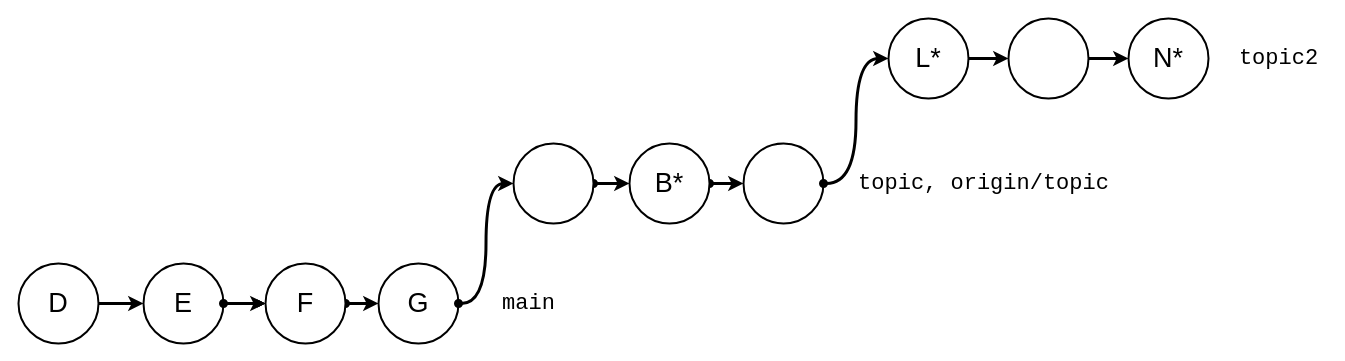
Some shapes in this 1345 by 361 pixel diagram are drawn without their labels. Here are the shapes that lost their labels. From the top down, the box of each, then its label:
(1007, 17, 1089, 99): M*
(512, 142, 594, 224): A*
(742, 142, 824, 224): C*
